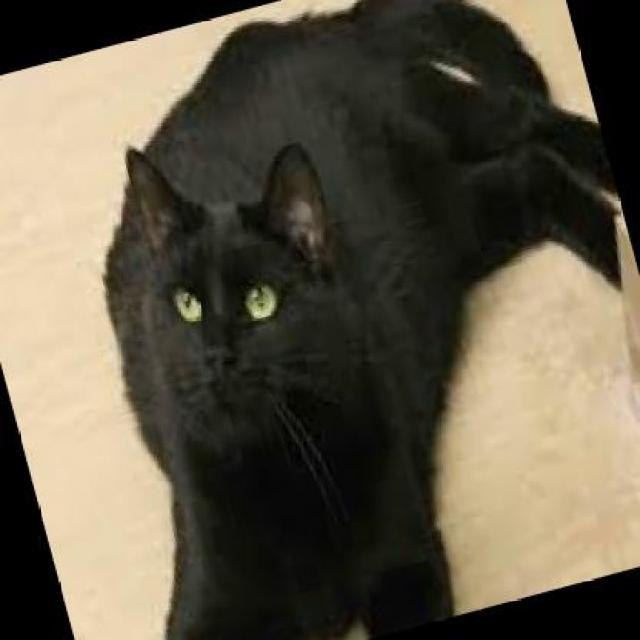animals: (1, 0, 638, 638)
